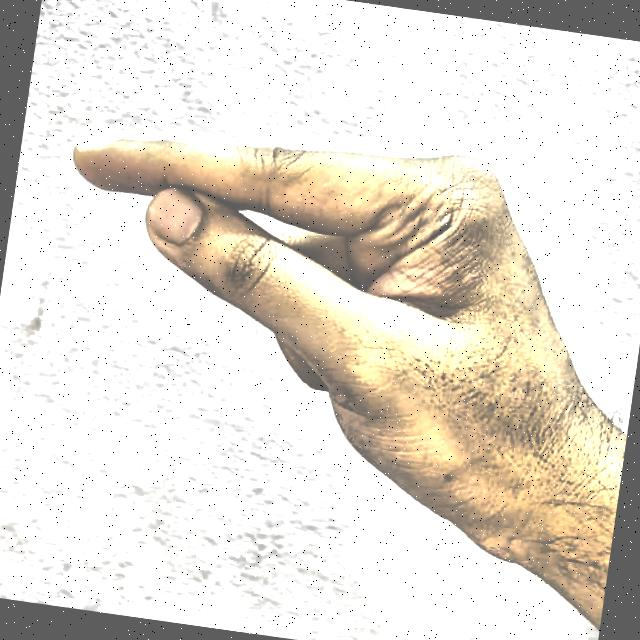Tha: (0, 62, 640, 640)
